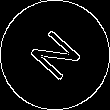N_SE: (23, 23, 87, 87)
